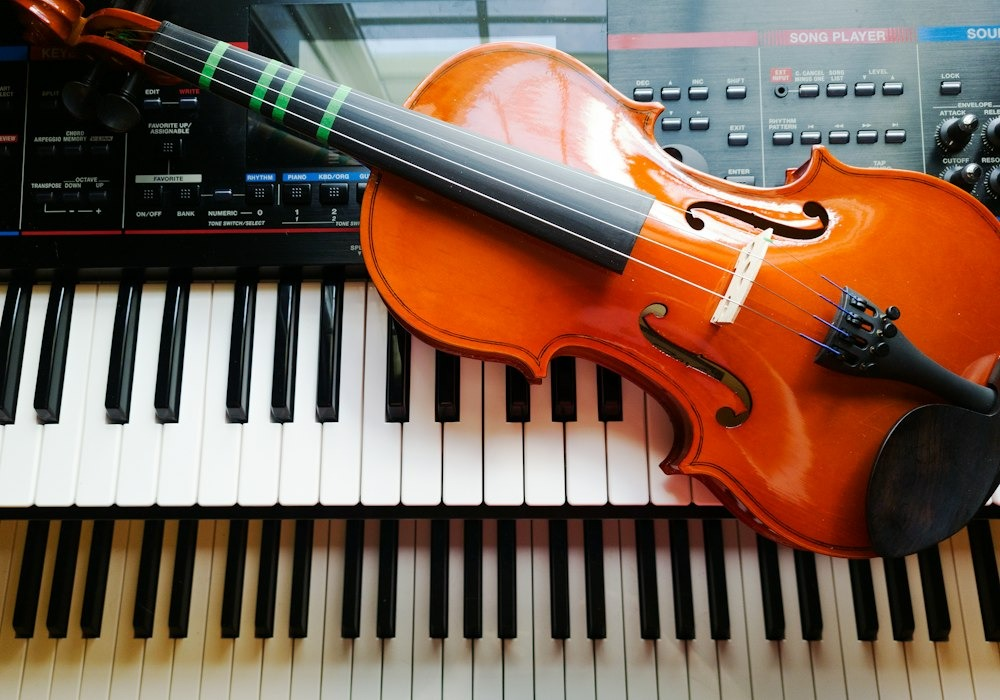Piano: (1, 164, 992, 700)
Violin: (2, 11, 1000, 568)
